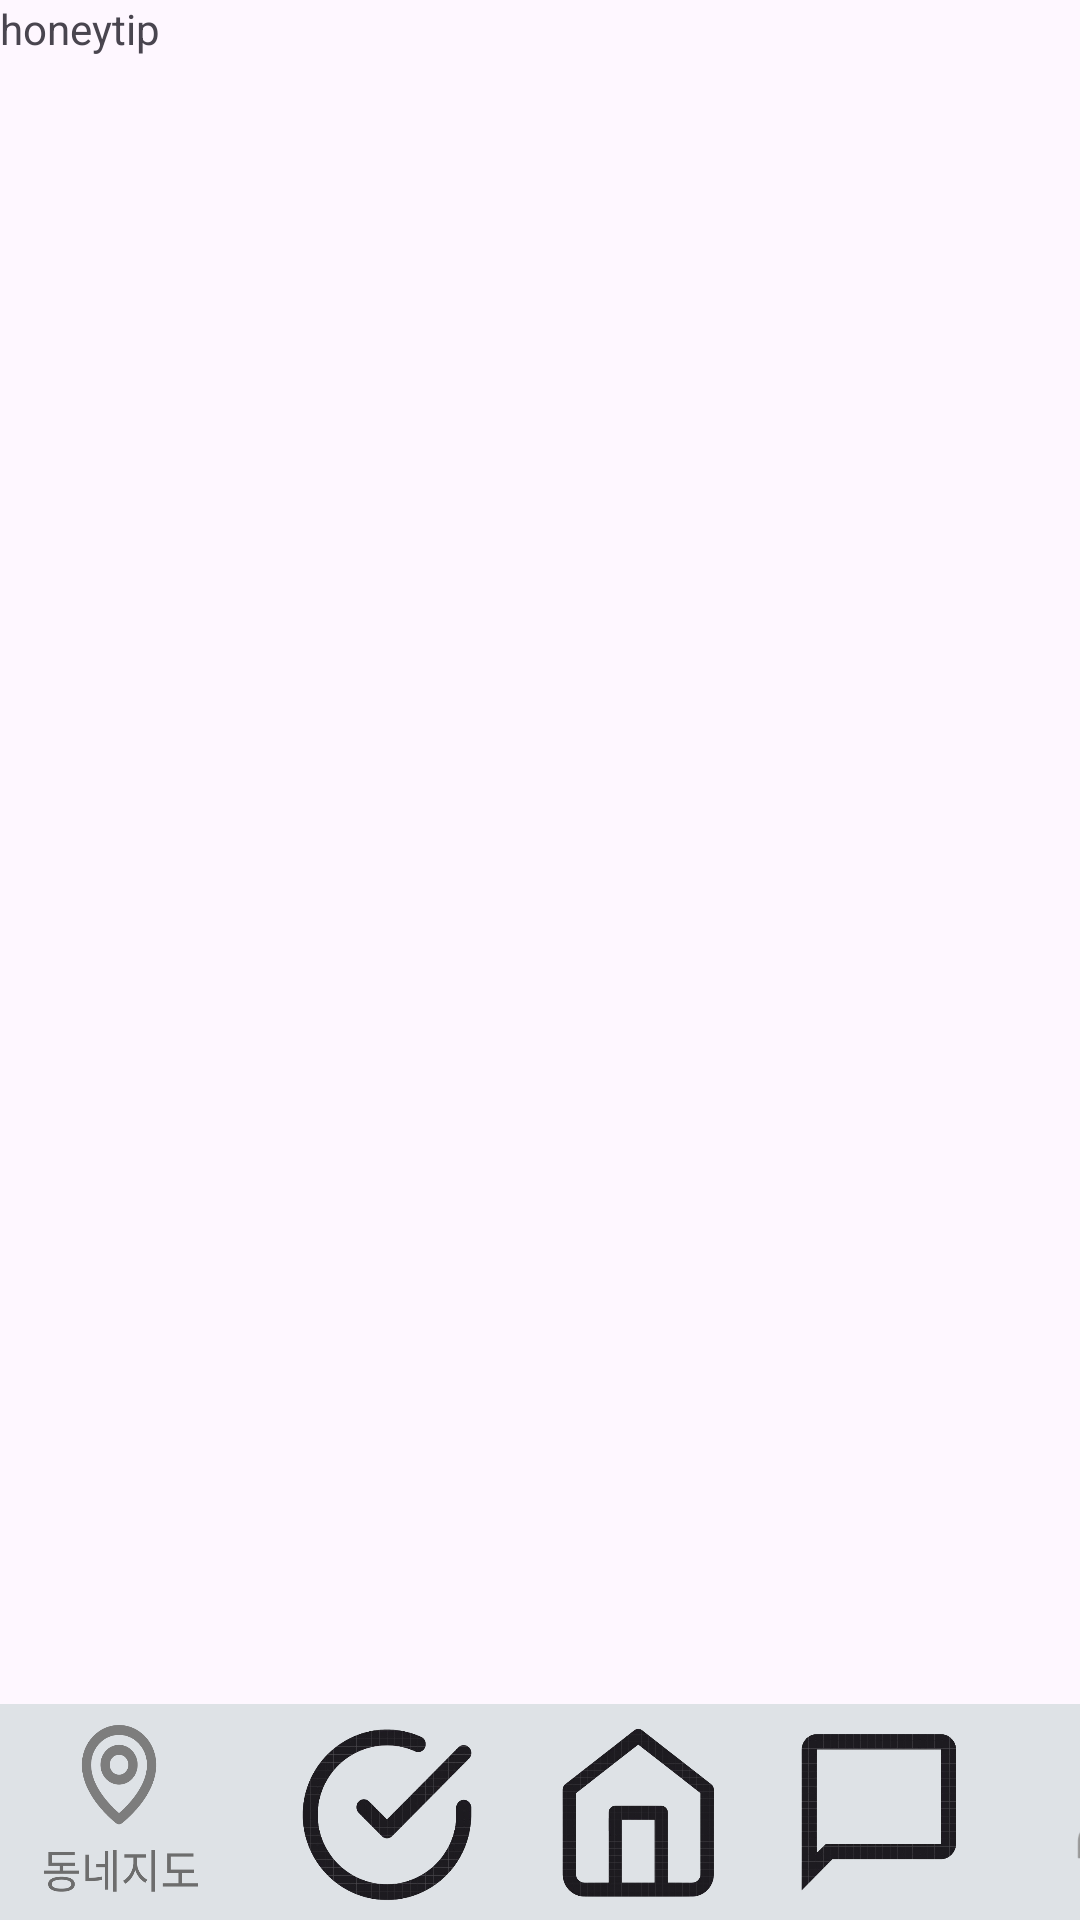

Named icons in this screenshot (1080w x 1920h) and their bounding boxes, (x1, y1, x2, y2):
chat: (801, 1734, 956, 1890)
check: (302, 1729, 472, 1900)
home: (562, 1729, 714, 1897)
